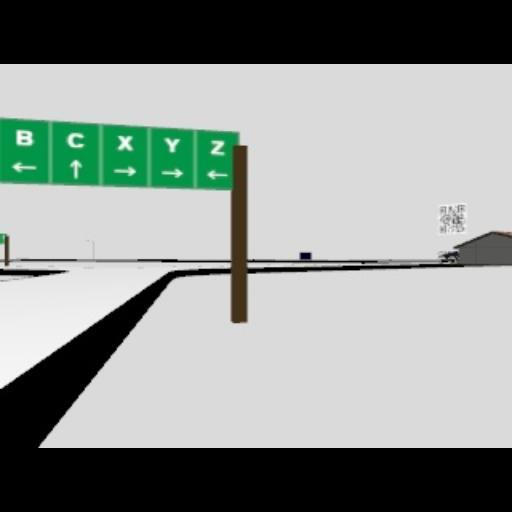B: (14, 128, 34, 146), (456, 203, 464, 213)
C: (65, 131, 83, 147)
Left: (11, 162, 37, 172), (205, 169, 227, 179)
Right: (112, 164, 138, 176), (160, 166, 184, 178)
Straight: (68, 158, 82, 178), (438, 224, 446, 234)
X: (117, 134, 133, 150)
Y: (163, 136, 179, 152)
Z: (210, 139, 226, 155)
